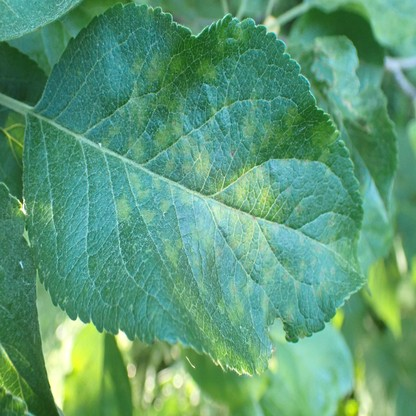scab: (231, 165, 284, 221), (253, 107, 303, 152), (149, 51, 184, 110), (191, 227, 222, 264), (156, 120, 186, 150), (216, 17, 243, 49), (183, 145, 209, 178), (129, 84, 150, 124), (310, 119, 337, 146), (210, 176, 226, 219), (228, 279, 243, 321), (129, 171, 148, 199), (163, 239, 181, 264), (196, 60, 216, 81), (242, 220, 255, 252), (260, 224, 274, 253), (241, 113, 255, 139), (129, 134, 144, 158), (295, 259, 305, 292), (263, 262, 276, 283), (117, 198, 129, 219), (196, 278, 209, 297), (261, 290, 270, 317), (141, 208, 154, 224), (317, 272, 326, 295), (227, 233, 238, 251), (285, 305, 296, 323), (244, 278, 254, 297), (180, 190, 191, 207), (131, 59, 143, 73), (318, 149, 330, 163), (283, 260, 290, 283), (161, 198, 171, 214), (328, 236, 337, 252), (218, 300, 226, 315), (152, 176, 161, 189), (165, 159, 174, 172), (315, 242, 324, 254), (108, 127, 120, 135), (224, 95, 232, 107), (102, 138, 110, 147), (328, 217, 335, 227), (295, 203, 301, 214), (310, 256, 315, 269), (331, 265, 336, 277), (211, 109, 218, 117)
